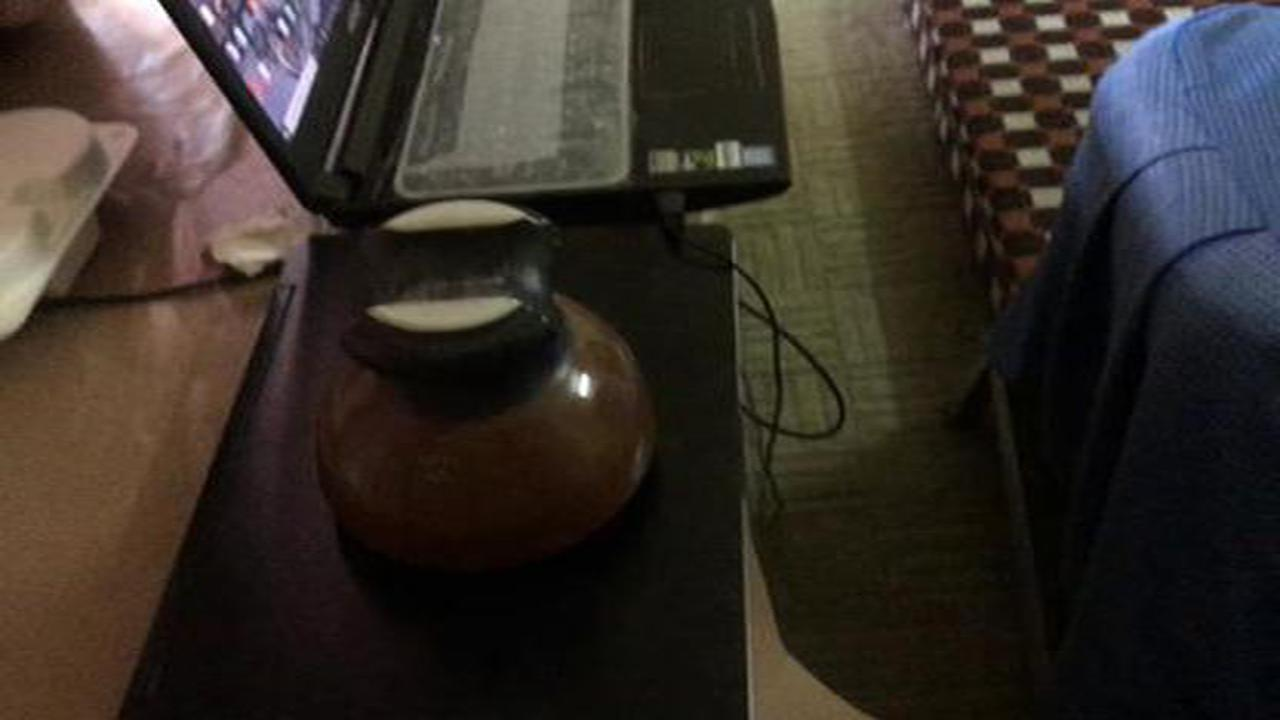insulator_pin: (290, 189, 674, 592)
